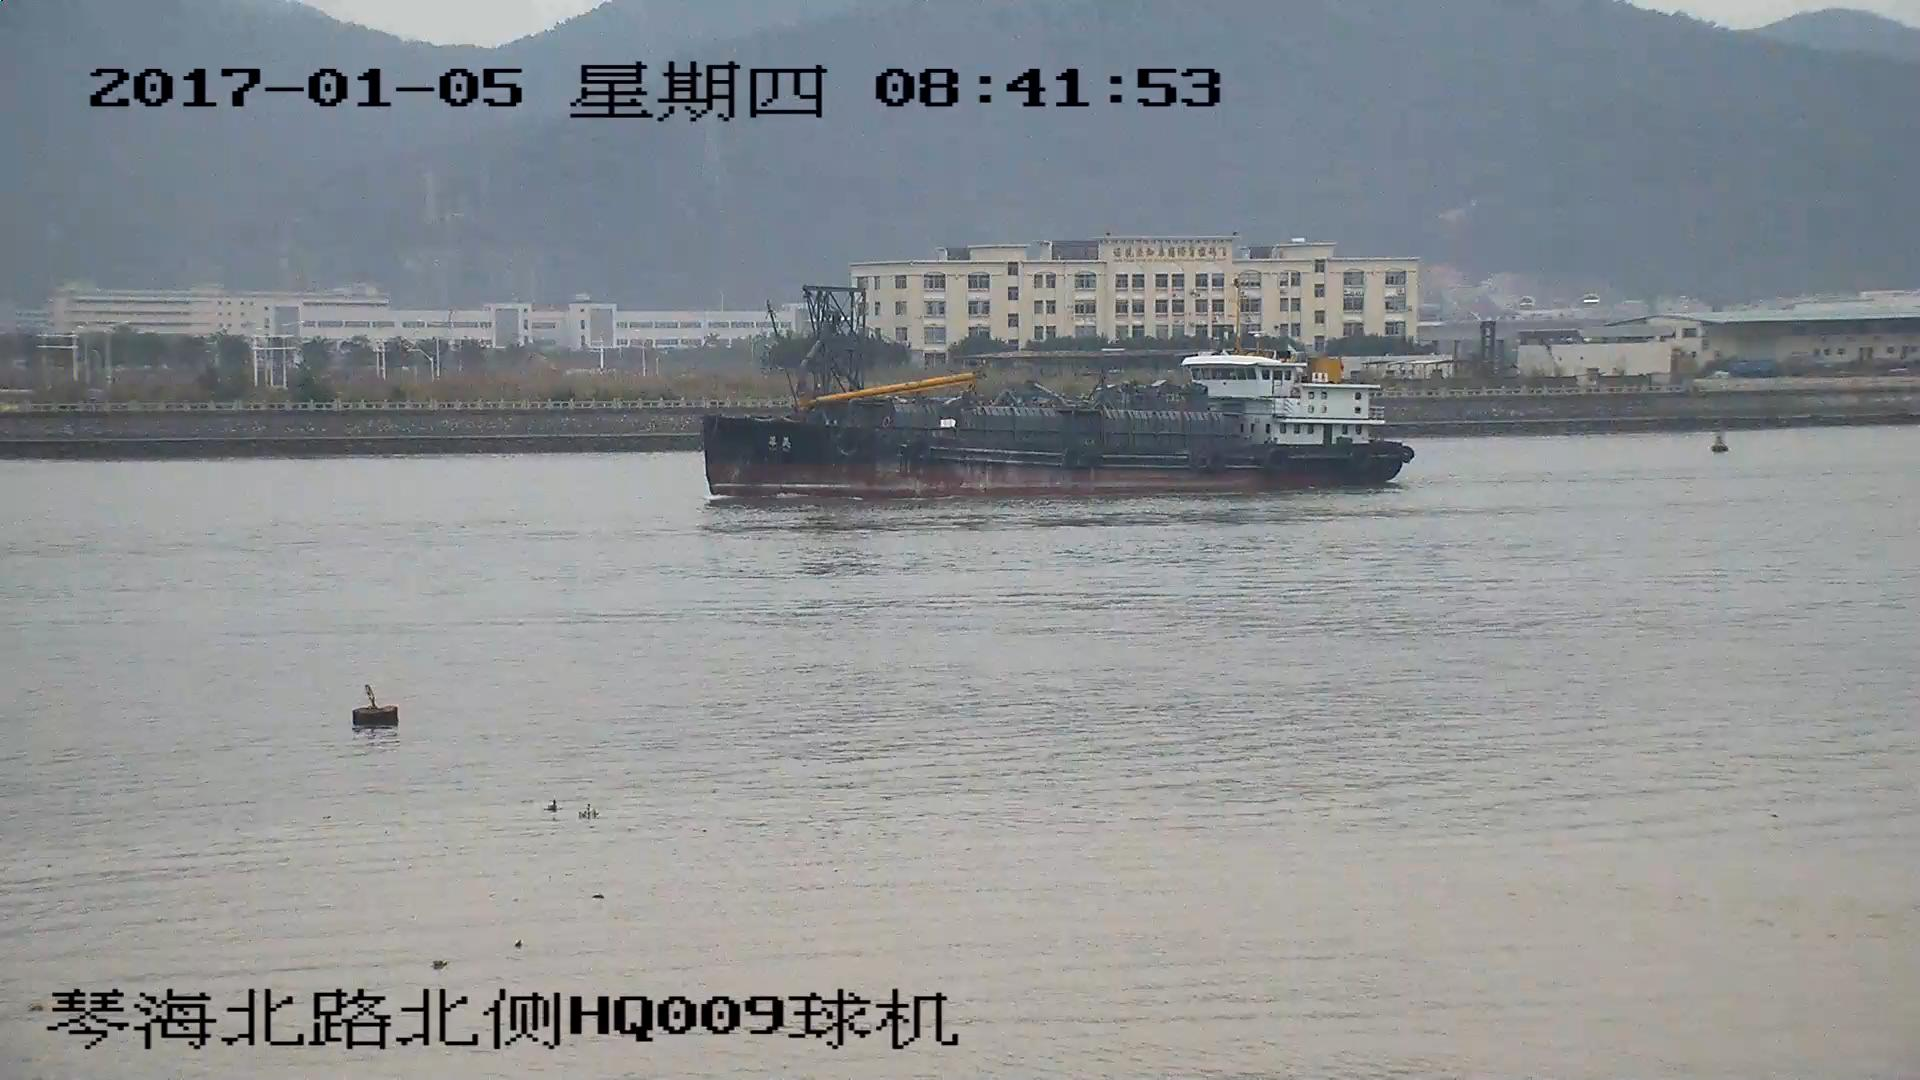bulk cargo carrier: (697, 285, 1409, 507)
